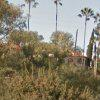Tree: (12, 25, 70, 82)
